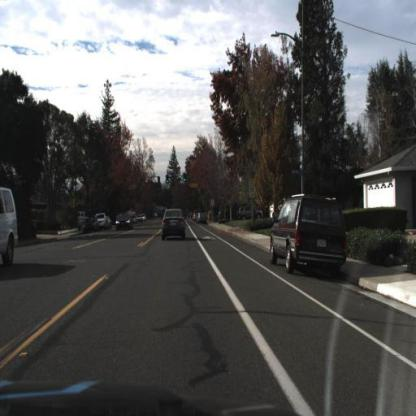car: (267, 191, 354, 272), (0, 186, 19, 276), (160, 206, 189, 243), (235, 201, 266, 226), (114, 210, 135, 232), (81, 216, 99, 234), (94, 211, 110, 231), (196, 210, 208, 226)
trafficLight-Green: (165, 172, 171, 186), (183, 172, 187, 186), (165, 173, 170, 184), (182, 172, 187, 182)
